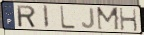H: (118, 7, 139, 32)
I: (42, 5, 50, 29)
J: (81, 7, 96, 30)
L: (59, 5, 77, 30)
M: (96, 7, 121, 32)
R: (16, 5, 38, 29)
